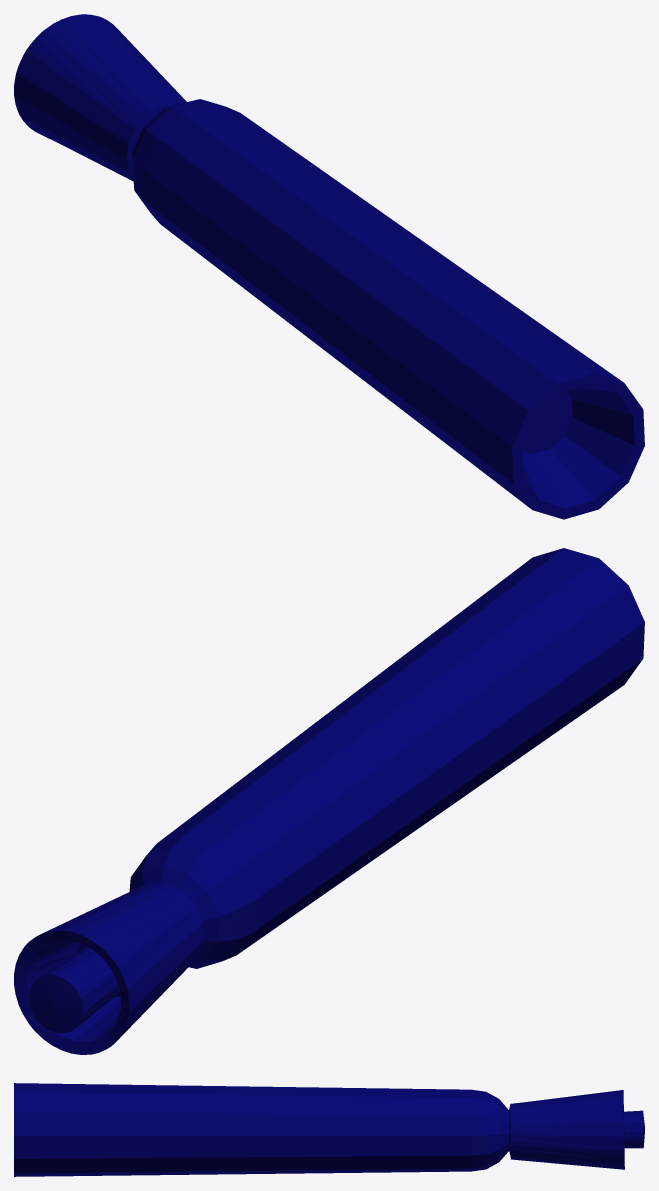
File: pen2_2.dae
3 renders of one model, top to bottom at view 1: azimuth 30°, elevation 25°; view 2: azimuth 150°, elevation 25°; view 3: azimuth 270°, elevation 25°, orthographic. The views are drawn at different scales.
Visible parts, largest first — view 1: pen2; view 2: pen2; view 3: pen2.
Boxes of the visible parts, x1,y1,x2,y2 form: pen2: [14, 14, 644, 519]; pen2: [14, 548, 644, 1054]; pen2: [14, 1083, 644, 1176].
Bounding box in the file's own units: 0.038 × 0.2596 × 0.038.
